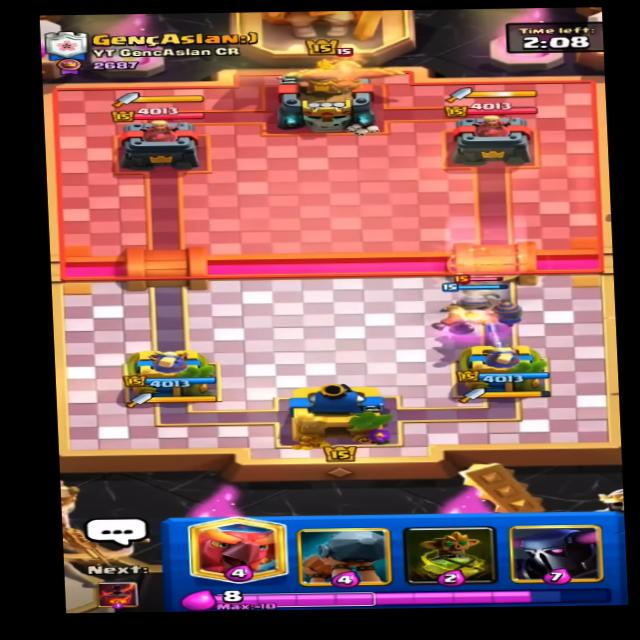phoenix: (285, 48, 414, 95)
